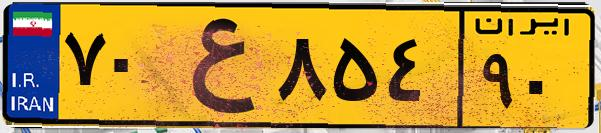0: (525, 38, 570, 115), (110, 28, 158, 98)
4: (385, 28, 445, 110)
5: (330, 28, 385, 110)
7: (57, 26, 110, 100)
8: (270, 28, 330, 110)
9: (475, 38, 525, 113)
ع: (158, 12, 270, 120)
